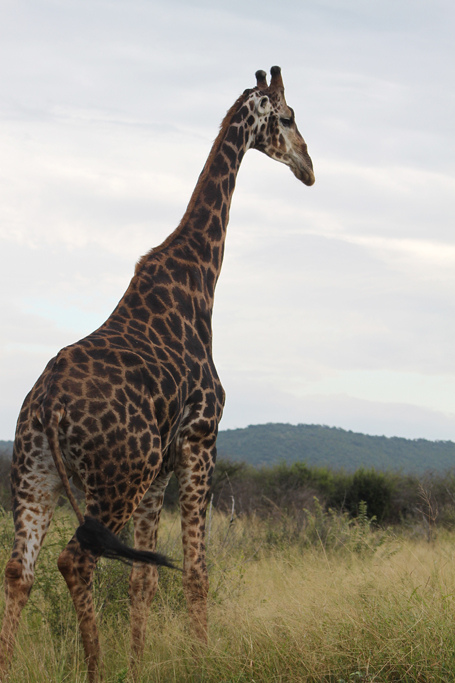giraffe: (29, 53, 338, 635)
